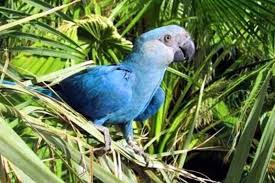guacamaya: (65, 22, 198, 155)
